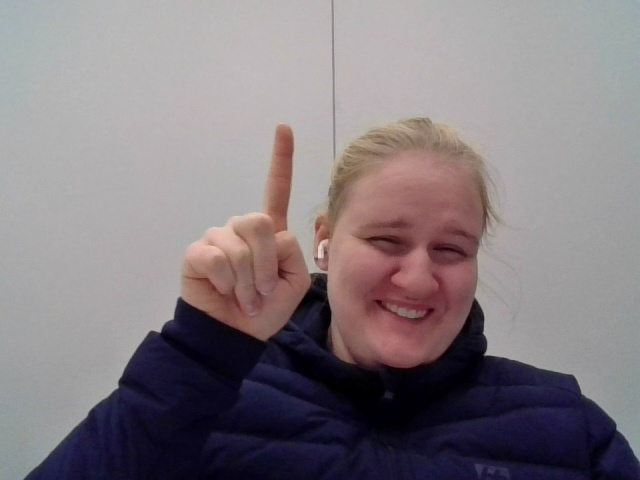up: (161, 115, 325, 343)
